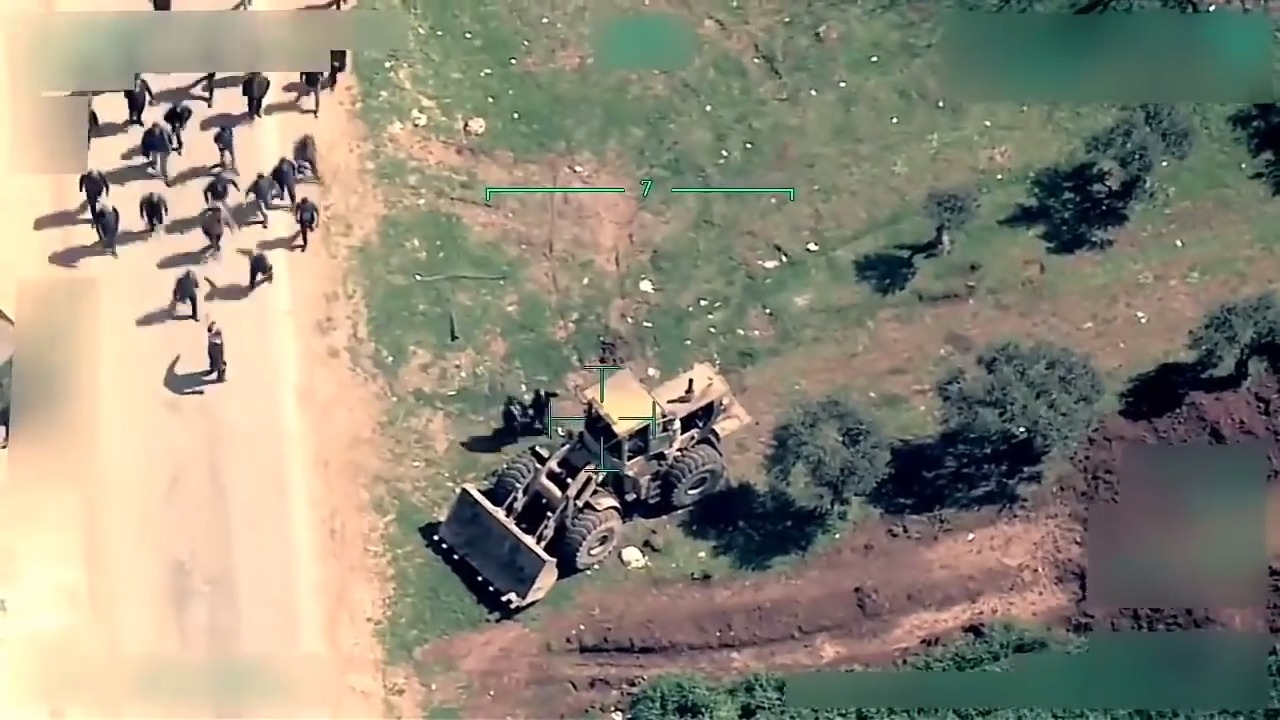insan: (290, 191, 335, 255), (163, 267, 207, 330), (142, 120, 178, 185), (94, 198, 129, 260), (291, 132, 329, 186), (237, 245, 283, 289), (203, 310, 229, 385), (247, 166, 277, 227), (137, 185, 168, 239)
